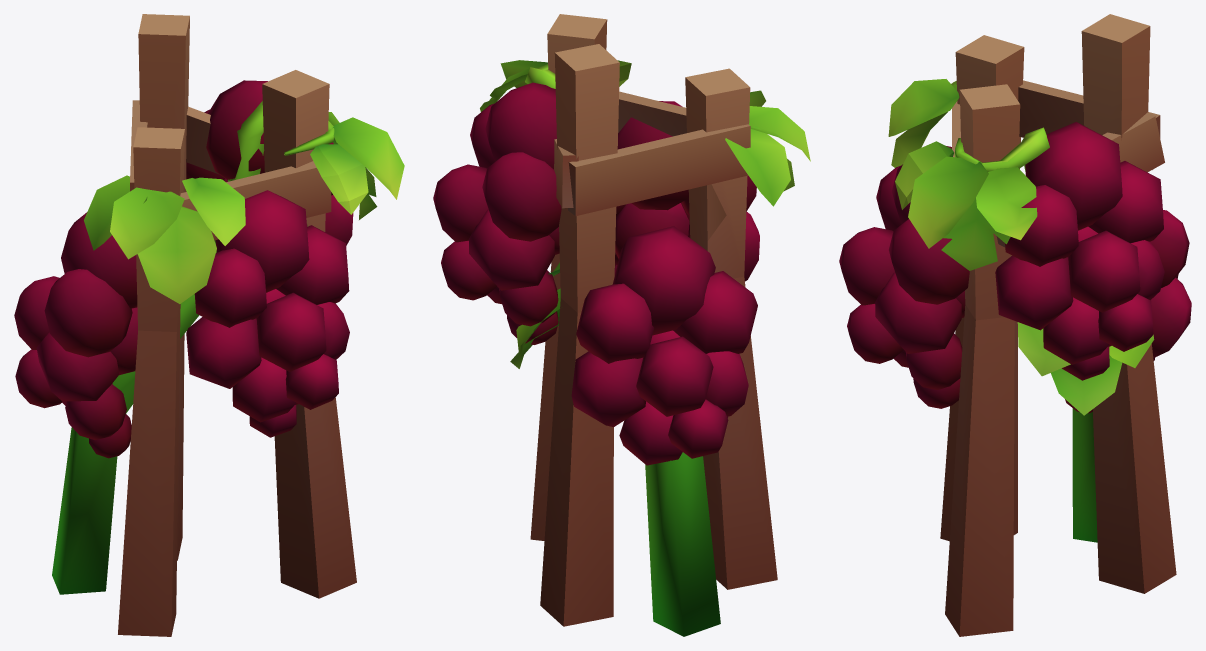
Rendered from grape_bush.fbx.
3 views of the same model, side by side, from view 1: azimuth 30°, elevation 25°; view 2: azimuth 150°, elevation 25°; view 3: azimuth 270°, elevation 25° (orthographic). The views are drawn at different scales.
Parts seen in each view (by area): view 1: Circle.001, Sphere.002, Sphere.001, Sphere.003; view 2: Circle.001, Sphere.001, Sphere.003, Sphere.002; view 3: Circle.001, Sphere.003, Sphere.002, Sphere.001.
Boxes of the visible parts, box(x1,y1,x2,y2) form: Circle.001: box(52, 14, 404, 636); Sphere.002: box(186, 190, 349, 437); Sphere.001: box(14, 212, 137, 458); Sphere.003: box(186, 80, 353, 245); Circle.001: box(480, 14, 810, 636); Sphere.001: box(571, 226, 757, 465); Sphere.003: box(433, 82, 561, 344); Sphere.002: box(614, 101, 759, 281); Circle.001: box(888, 14, 1176, 636); Sphere.003: box(995, 122, 1164, 380); Sphere.002: box(839, 146, 969, 408); Sphere.001: box(1065, 210, 1191, 413).
Size of the model in its own units: 34.12 by 58.13 by 33.76.
